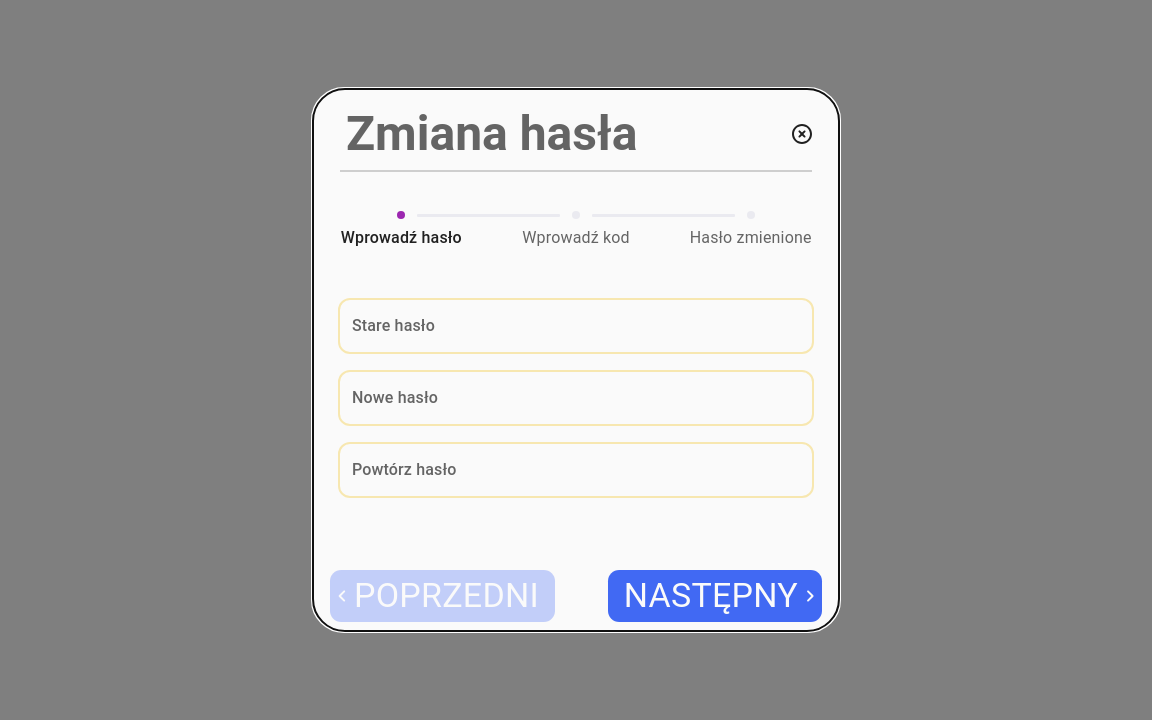
Test: ChanclgePasswordModal › Second step renders as expected
Click the button "Następny" at x=715, y=596, box [608, 570, 822, 622]
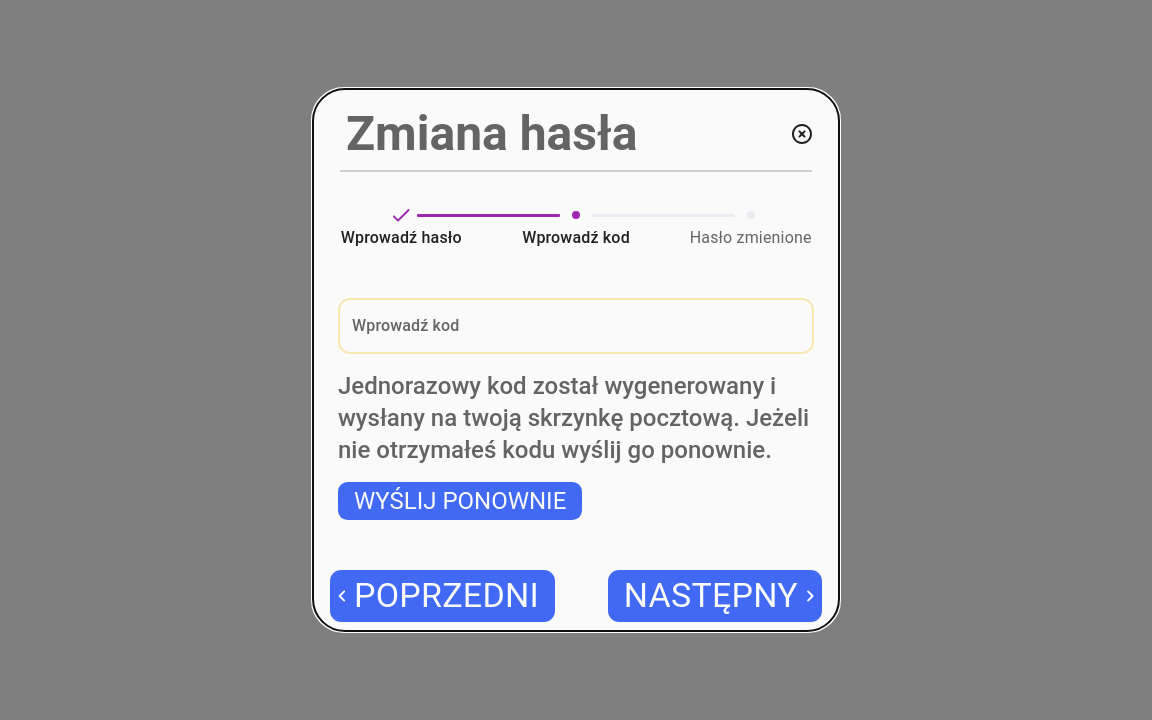
expect the button "Wyślij ponownie" is enabled: met, box [338, 482, 582, 520]
expect the button "Poprzedni" is enabled: met, box [330, 570, 555, 622]
expect the element with test id "second-step" is shown: met, box [338, 282, 814, 570]
